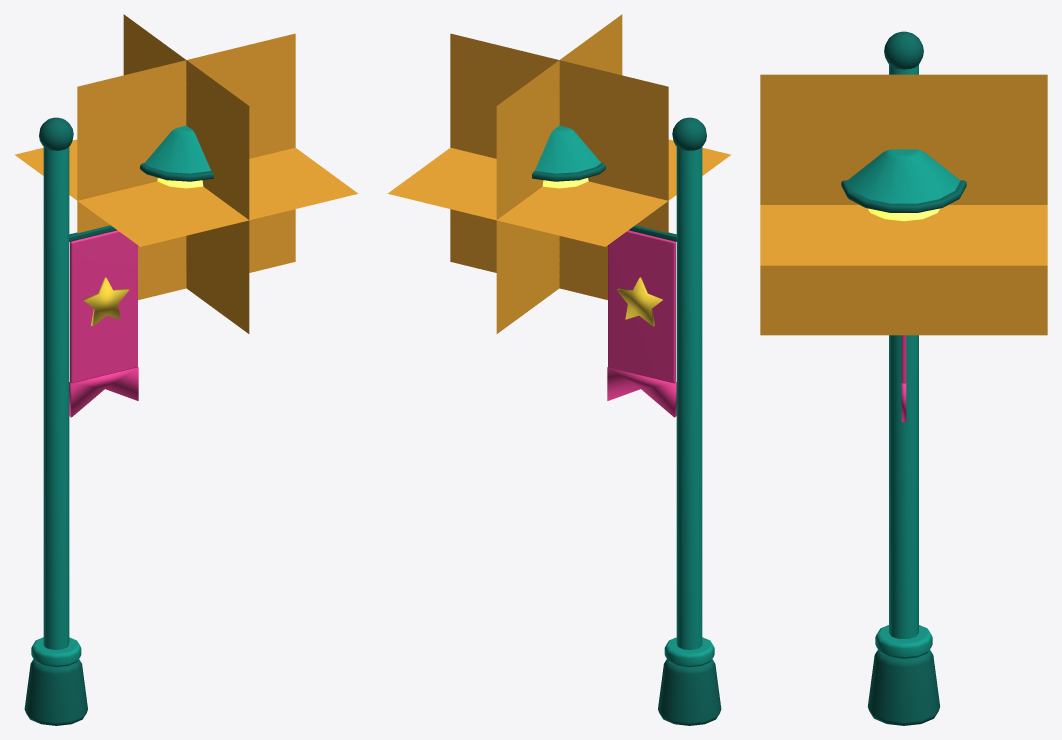
Rendered from lamp_post.glb.
3 views of the same model, side by side, from view 1: azimuth 30°, elevation 25°; view 2: azimuth 150°, elevation 25°; view 3: azimuth 270°, elevation 25° (orthographic). The views are drawn at different scales.
Visible parts, largest first — view 1: LampPost; view 2: LampPost; view 3: LampPost.
Boxes of the visible parts, box(x1,y1,x2,y2) form: LampPost: box(14, 14, 358, 725); LampPost: box(387, 14, 731, 725); LampPost: box(760, 31, 1047, 725).
Bounding box in the file's own units: 2.46 × 5.5 × 2.02.
